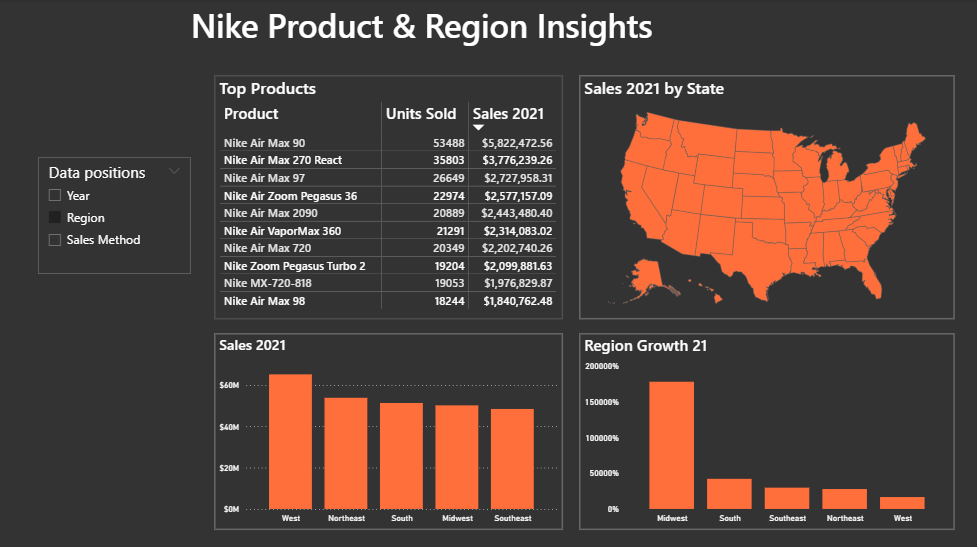

The page's visual inventory and layout, read from the dashboard file:
{"tool":"powerbi","page":{"name":"Page 2","canvas":[1280,720],"ordinal":1},"visuals":[{"type":"textbox","box":[100,0,905,78.3],"z":0},{"type":"tableEx","title":"Top Products","fields":{"Values":["Data Sales Nike.Product Name","Sum(Data Sales Nike.Units Sold)","Data Sales Nike.Sales 2021"]},"box":[280,100,456.7,320],"z":1000},{"type":"columnChart","title":"Sales 2021 ","fields":{"Category":["Data Sales Nike.Region"],"Y":["Data Sales Nike.Sales 2021"]},"box":[280,436.7,456.7,258.3],"z":2000},{"type":"columnChart","title":"Region Growth 21 ","fields":{"Y":["Data Sales Nike.Region Growth 21"],"Category":["Data Sales Nike.Region"]},"box":[758.3,436.7,491.7,258.3],"z":3000},{"type":"shapeMap","fields":{"Category":["Data Sales Nike.State"],"Value":["Data Sales Nike.Sales 2021"]},"box":[758.3,100,491.7,320],"z":4000},{"type":"slicer","fields":{"Values":["Data positions.Data positions"]},"box":[50,206.7,200,153.3],"z":5000}]}

Visuals, with their boxes in screenshot pixels (x1, y1, x2, y2), scaled from the page's 1280x720 canvas onto the 977x547 screenshot:
textbox: 76 0 767 59
"Top Products" tableEx: 214 76 562 319
"Sales 2021 " columnChart: 214 332 562 528
"Region Growth 21 " columnChart: 579 332 954 528
shapeMap - Data Sales Nike.State x Data Sales Nike.Sales 2021: 579 76 954 319
slicer - Data positions.Data positions: 38 157 191 274
